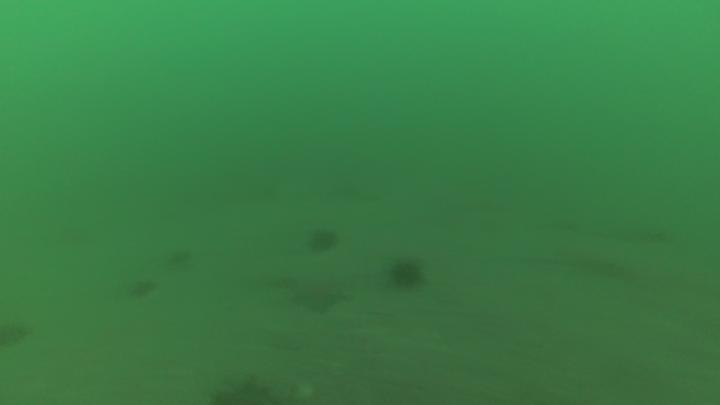echinus: (207, 376, 279, 405), (387, 257, 427, 293), (304, 228, 342, 256), (1, 320, 28, 353), (129, 278, 162, 302), (167, 246, 196, 269)
starfish: (286, 275, 353, 317)
